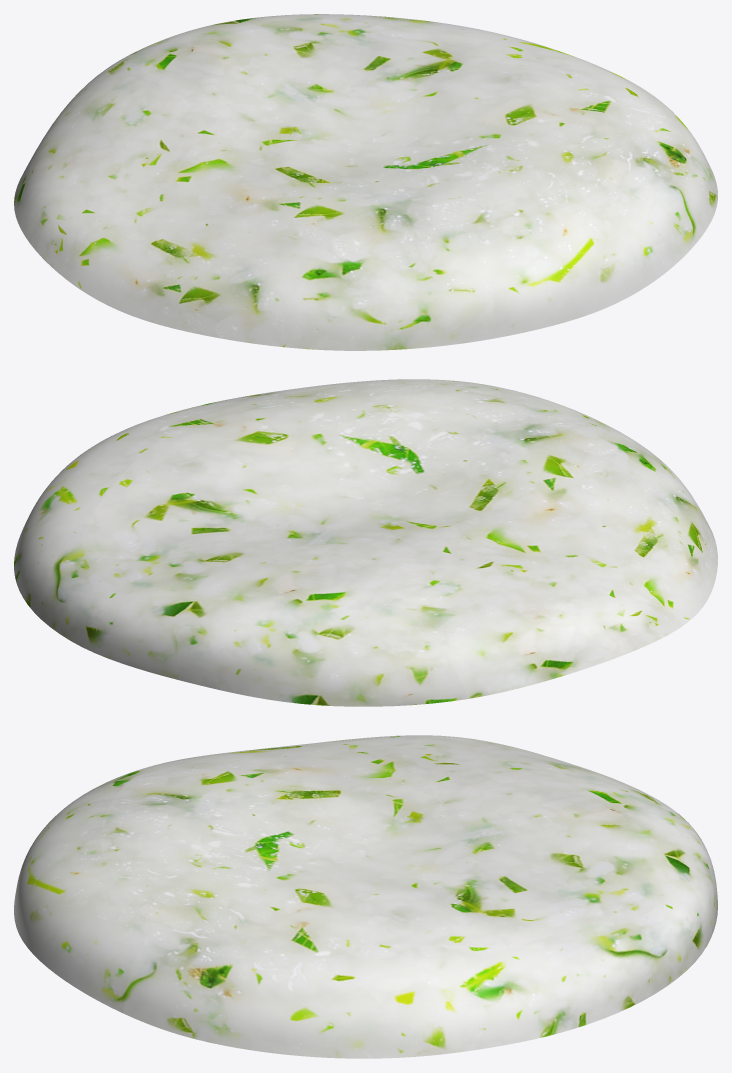
File: only_porridge_for_bowl.FBX
3 views of the same model, one above another, from view 1: azimuth 30°, elevation 25°; view 2: azimuth 150°, elevation 25°; view 3: azimuth 270°, elevation 25° (orthographic).
Parts seen in each view (by area): view 1: Box003; view 2: Box003; view 3: Box003.
Part boxes in pixels (x1,y1,x2,y2): Box003: (14,14,717,350); Box003: (14,379,717,706); Box003: (14,735,717,1058).
Size of the model in its own units: 14.64 by 1.83 by 14.43.
1 material, 1 textured.
